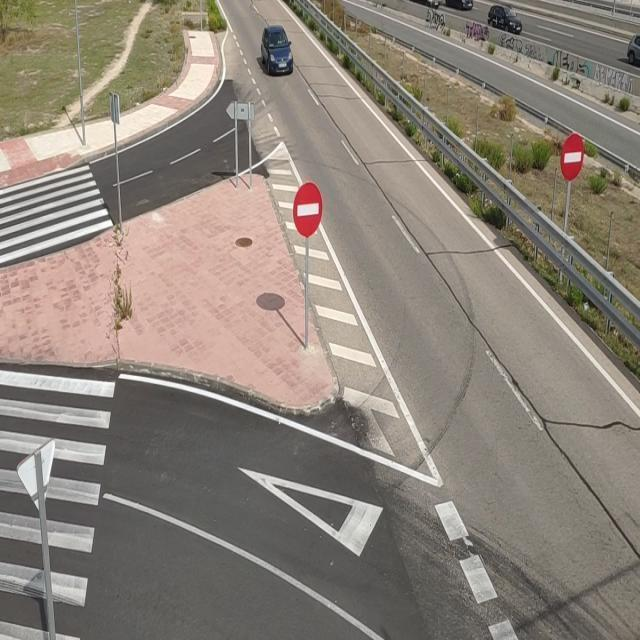Car: (252, 11, 306, 88), (465, 0, 535, 46)
